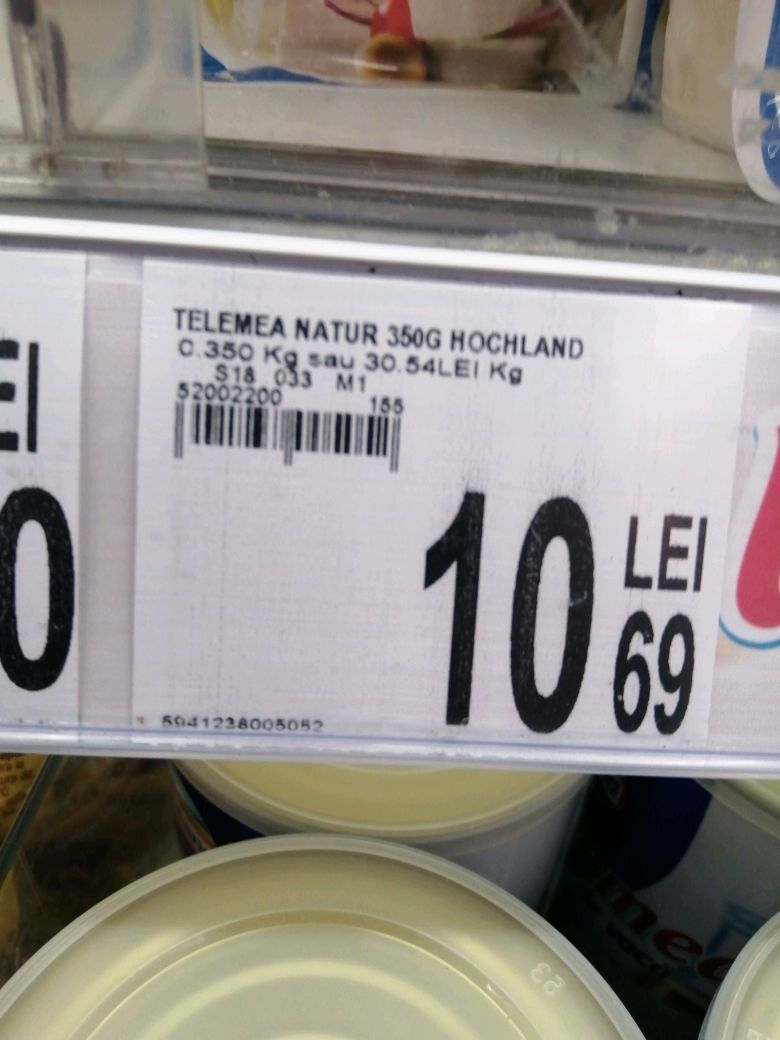price_bani: (610, 606, 701, 742)
price_lei: (391, 479, 601, 741)
price_tag: (119, 249, 755, 765)
product_id: (151, 706, 337, 745)
product_name: (163, 301, 594, 361)
